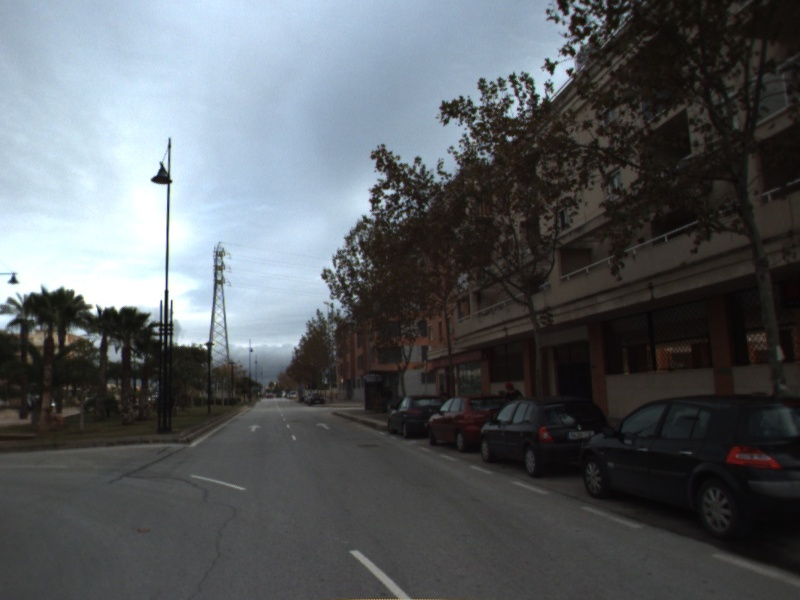STRAIGHT: (314, 420, 333, 431), (247, 422, 264, 433)
